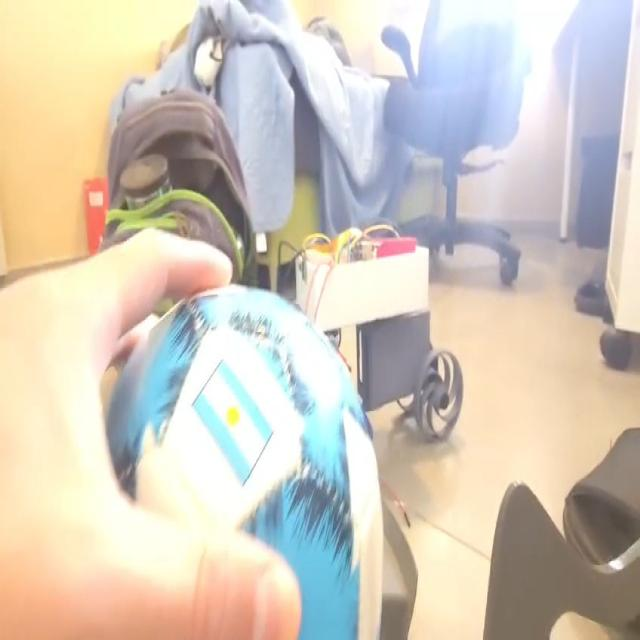Robot: (294, 232, 465, 448)
